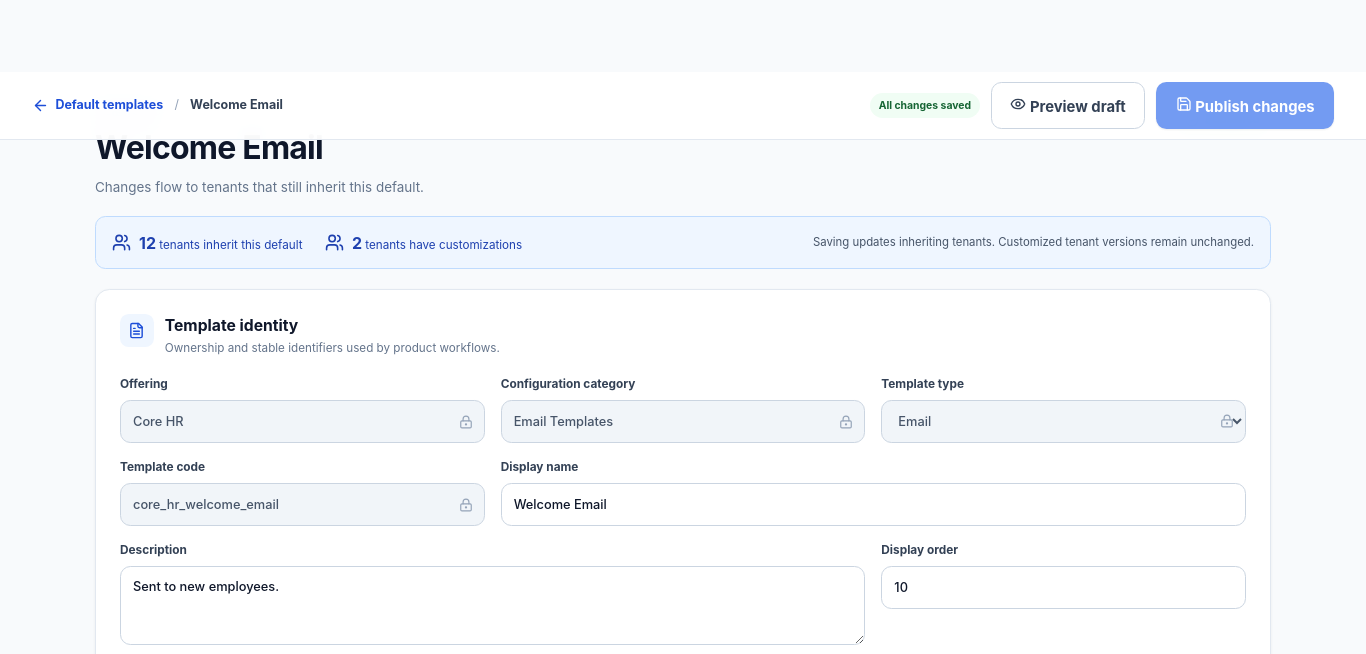
DefaultTemplateEditorPage › reloads the latest version after an optimistic concurrency conflict
Clear the field labelled "Display name" at (873, 504), box [501,483,1246,526]
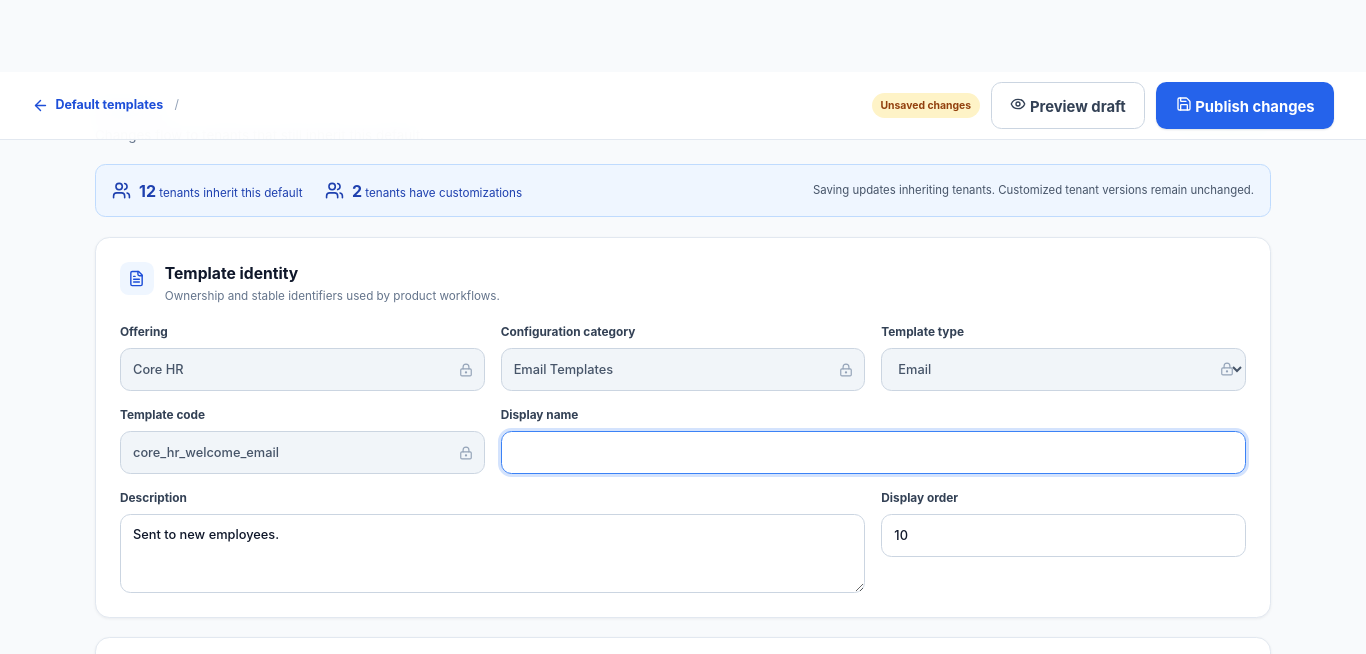
Type "Local Welcome" into the field labelled "Display name" at (873, 452), box [501,431,1246,474]
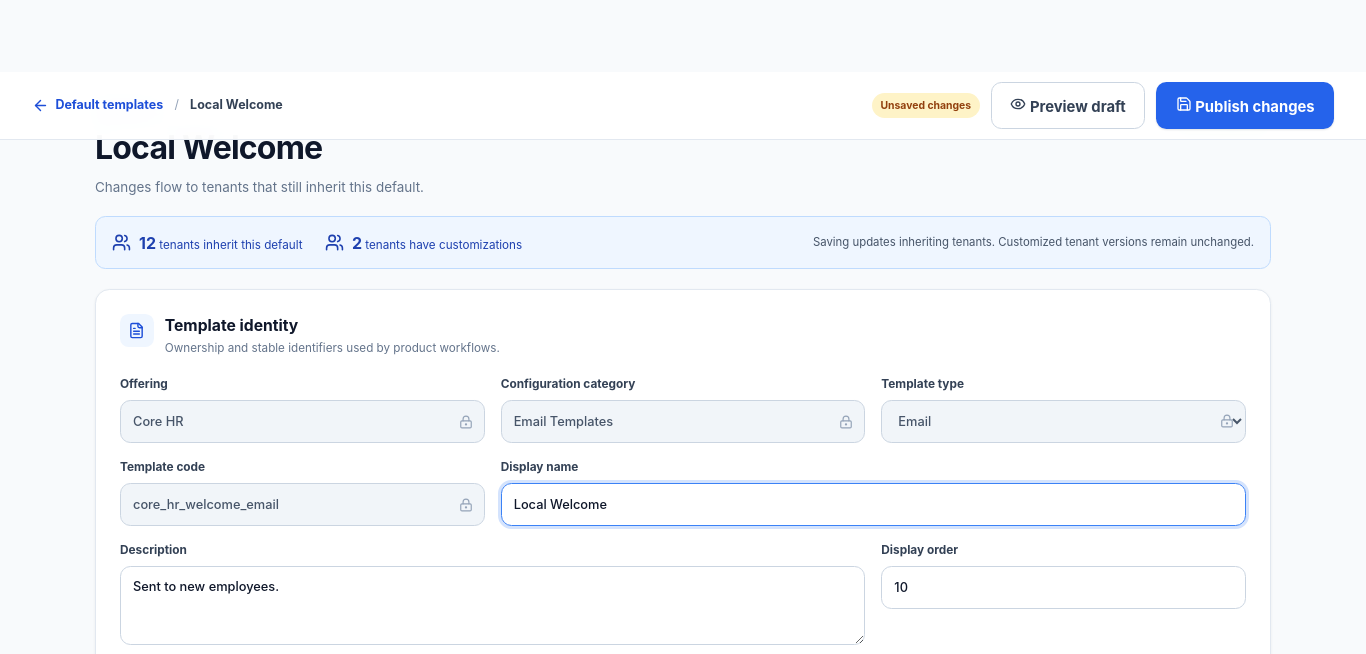
Click the button "Publish changes" at (1245, 106), box [1156,82,1334,129]
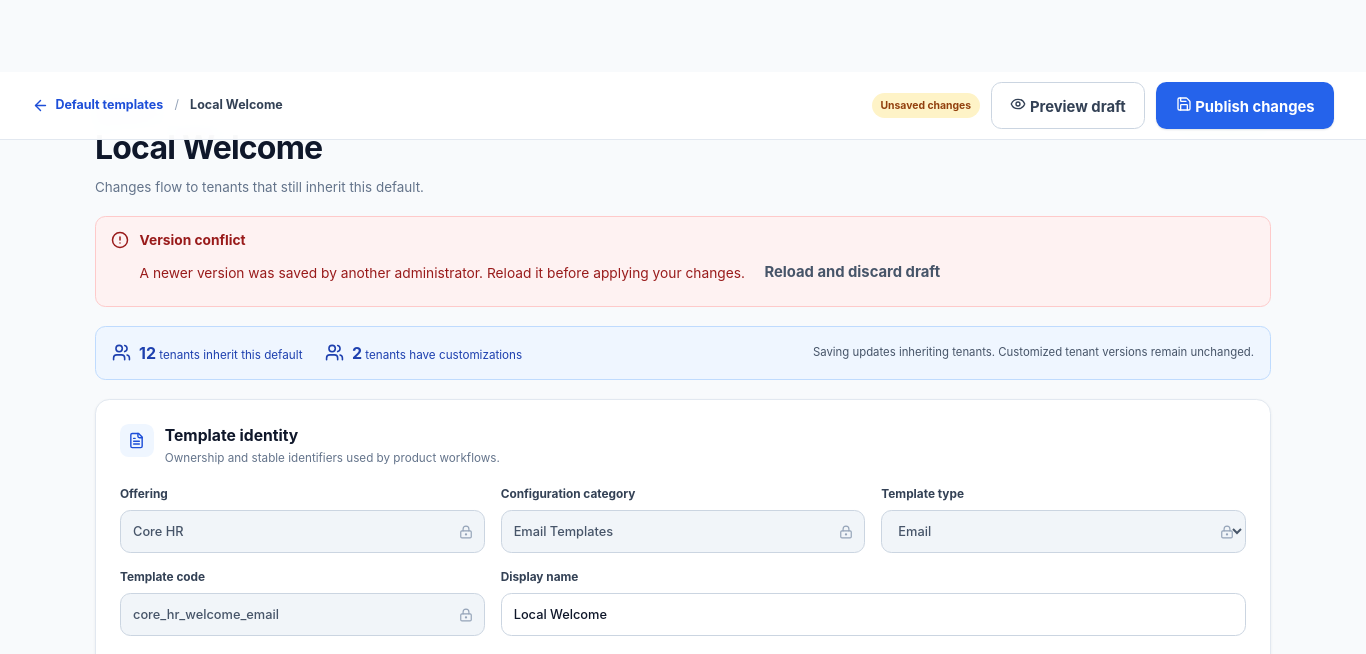
Check: the text "Version conflict" is shown, box [140,232,246,248]
Click the button "Reload and discard draft" at (852, 273), box [745,253,960,292]
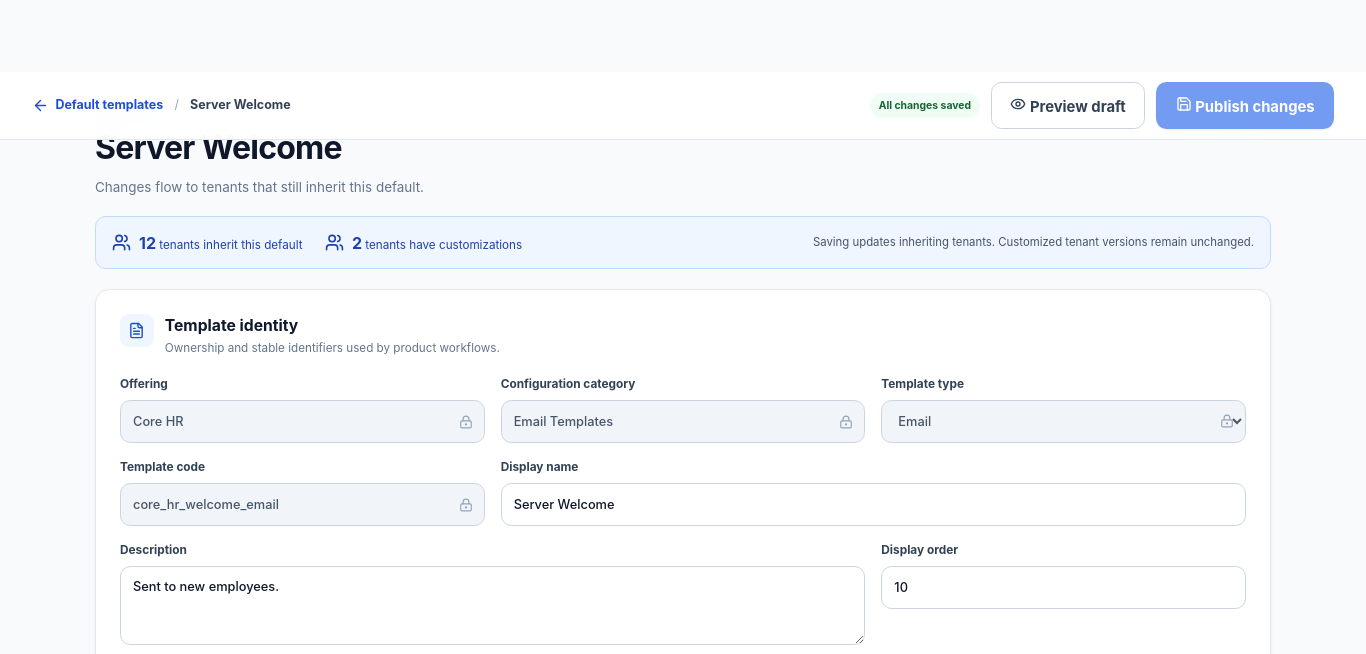
Check: the field labelled "Display name" holds "Server Welcome", box [501,483,1246,526]
Check: the text "All changes saved" is shown, box [870,93,980,118]
